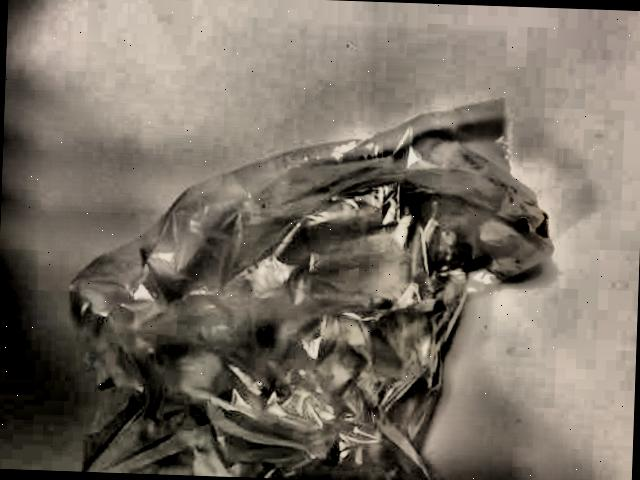Plastic: (41, 80, 554, 480)
